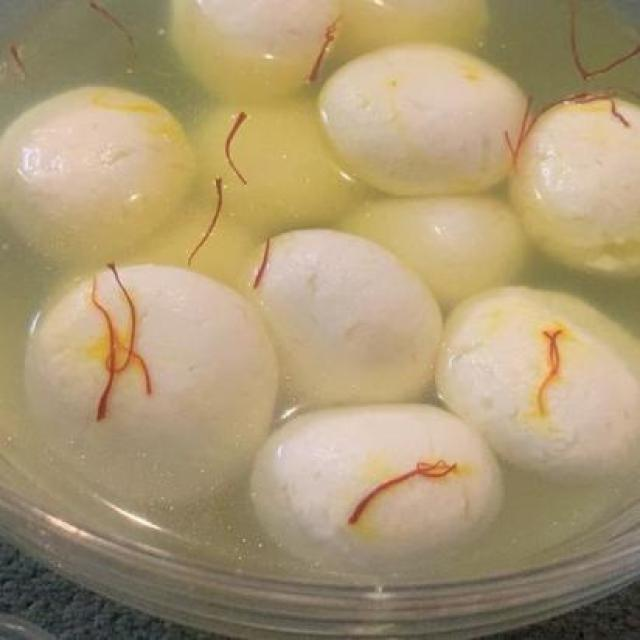rasgulla: (23, 264, 274, 502), (433, 282, 640, 490), (252, 405, 504, 571), (234, 228, 442, 409), (311, 40, 532, 194), (0, 84, 196, 256), (511, 88, 640, 276), (172, 0, 342, 106), (436, 286, 439, 290)
